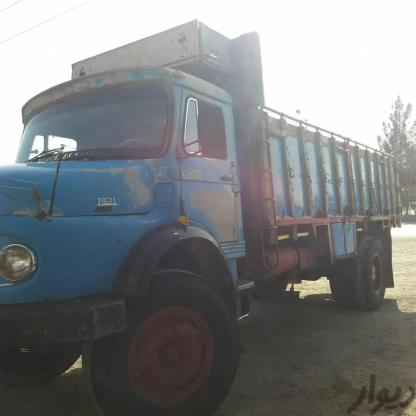Truck: (0, 28, 405, 416)
